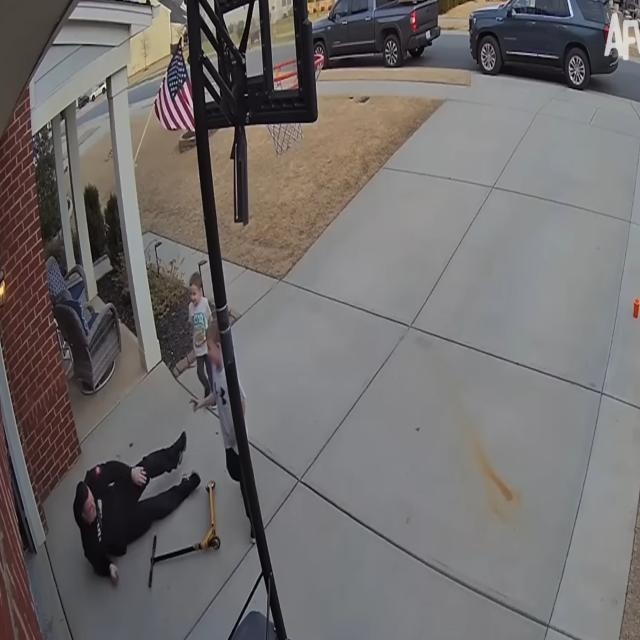fallen: (73, 431, 200, 583)
standing: (190, 325, 254, 541), (188, 272, 213, 395)
